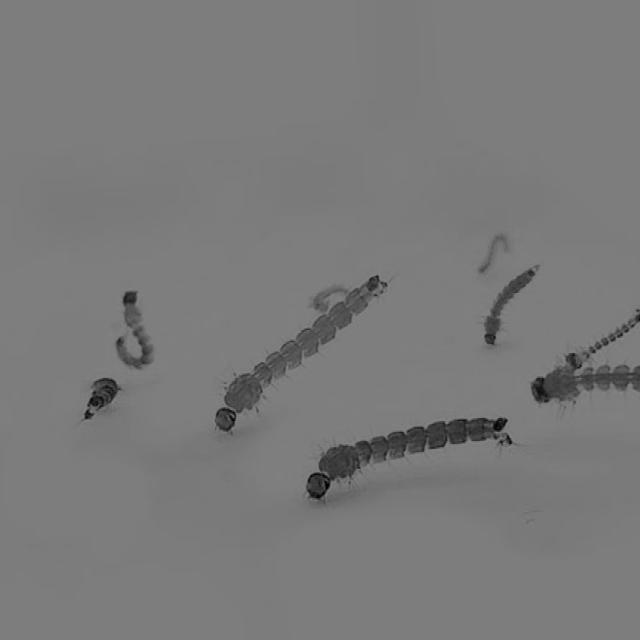larvas: (209, 262, 395, 444), (310, 409, 506, 509), (484, 267, 538, 346), (534, 367, 639, 406), (567, 314, 638, 368), (120, 289, 150, 372), (86, 377, 115, 423), (313, 281, 351, 312), (483, 235, 507, 278)
